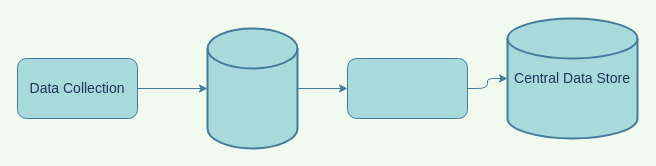
Some shapes in this 656 by 166 pixel diagram are drawn without their labels. Each missing label, with the box of its shape:
Data Processor: (346, 58, 468, 118)
DC storage: (206, 27, 298, 149)
